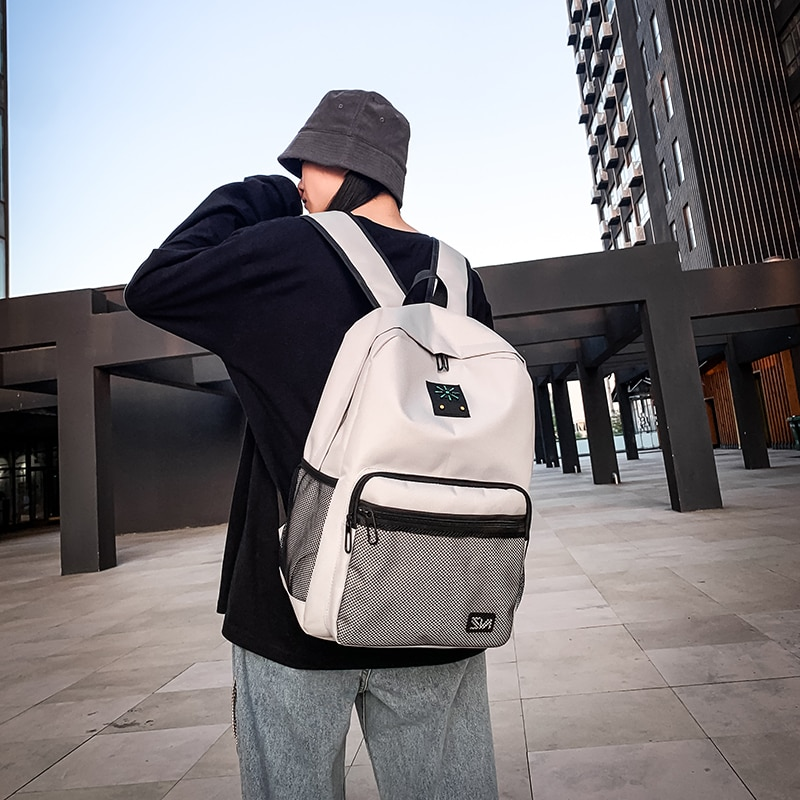Accessories|Hats: (275, 91, 411, 204)
Bottoms|Pants: (226, 644, 503, 800)
Men's Backpacks: (275, 210, 533, 650)
Tops: (123, 169, 487, 673)
